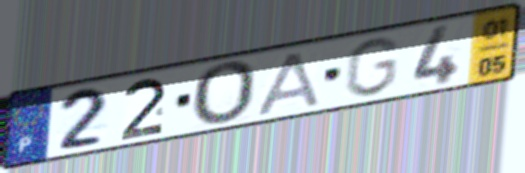2: (55, 85, 111, 156), (120, 75, 169, 142)
4: (410, 21, 464, 88)
A: (254, 48, 324, 118)
G: (341, 35, 404, 99)
O: (190, 59, 261, 128)
